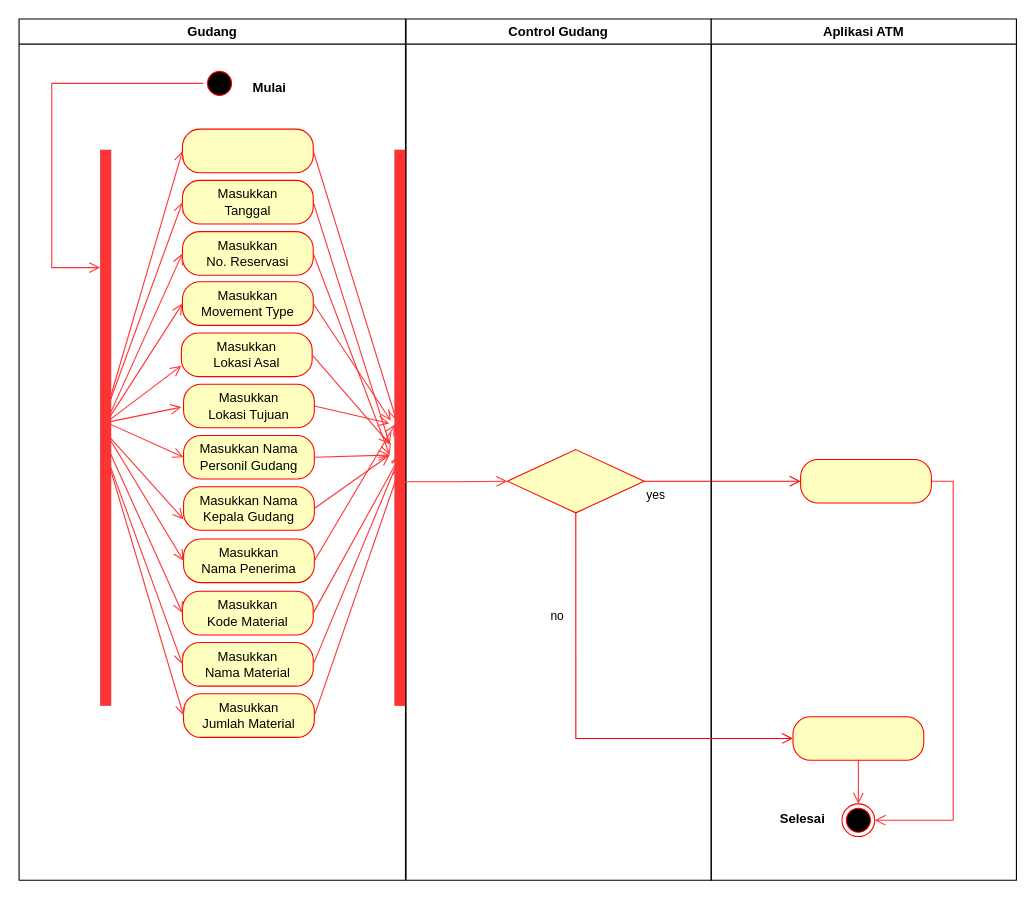
Image size: 1036x899. Some labels were removed from this diagram. Here are the shapes that lost their labels. From the top down, the centre of each, then its label:
At (247,150): "Masukkan No Dokumen".
At (575,481): "tekan simpan".
At (865,480): "Simpan Data".
At (858,738): "Menu Input Transfer Slip".
